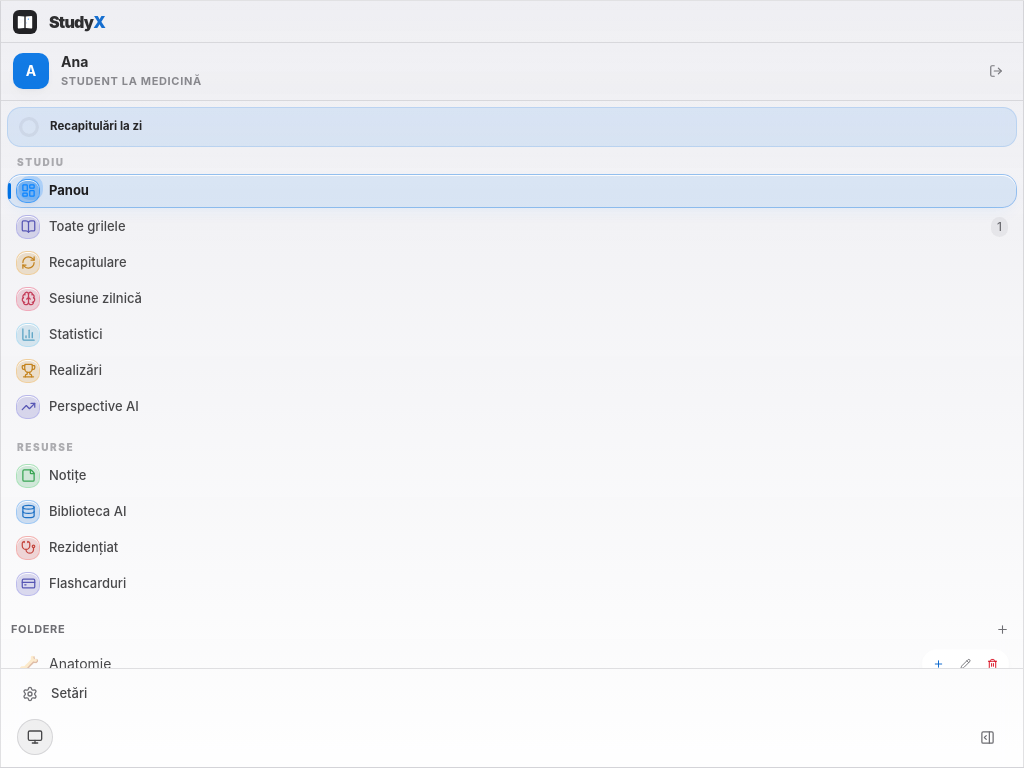
Sidebar (characterization) › asks for confirmation before deleting a folder
Click the button named "Șterge folderul Anatomie" at (992, 664), box [980, 651, 1005, 676]
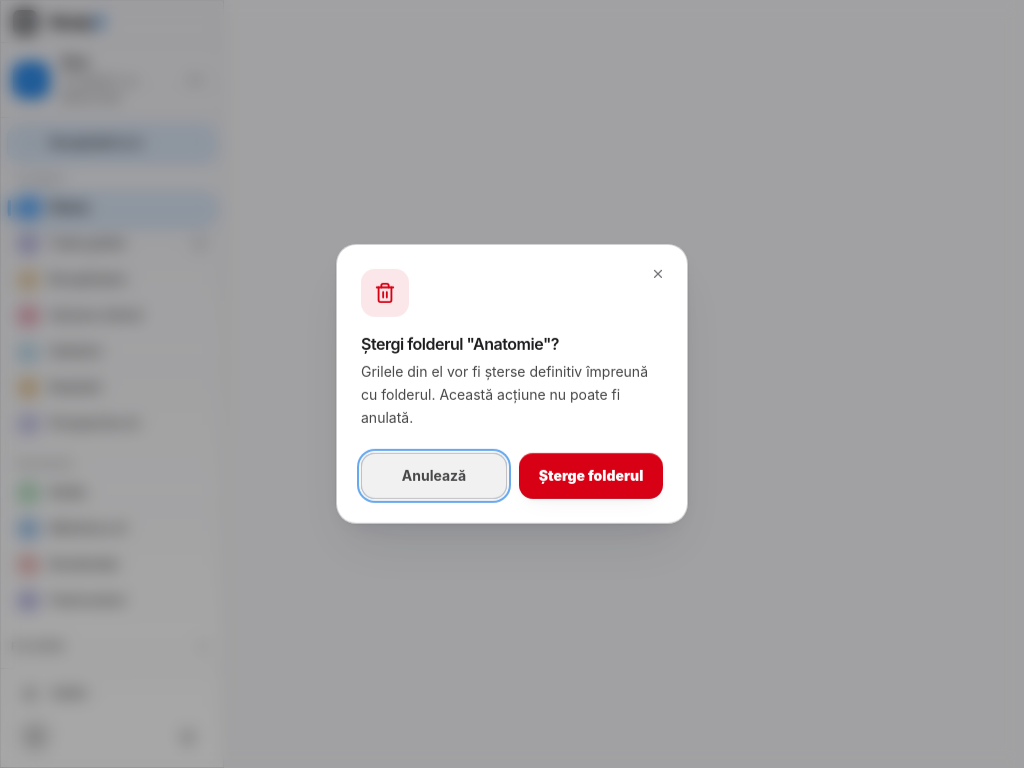
Check: the heading "Ștergi folderul \"Anatomie\"?" is shown, box [361, 334, 559, 354]
